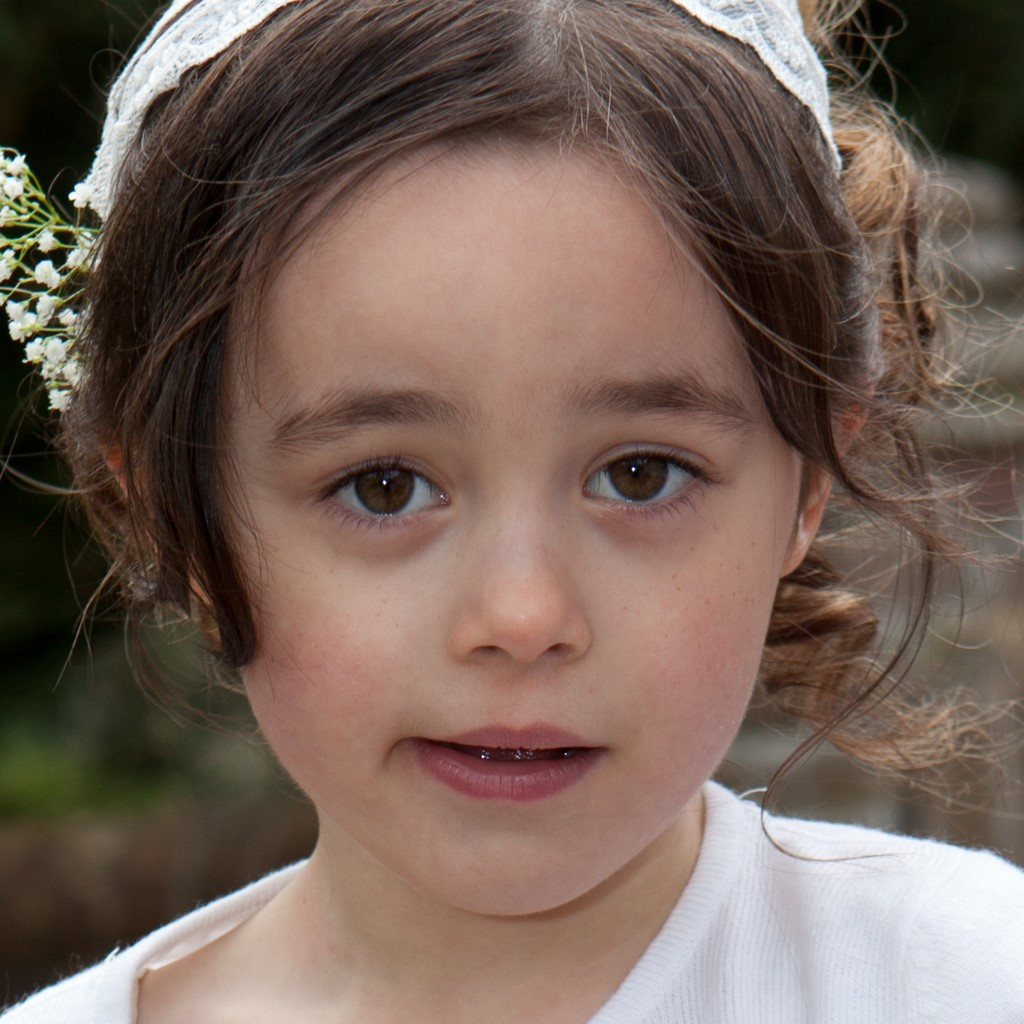sin_mascara: (233, 125, 802, 928)
